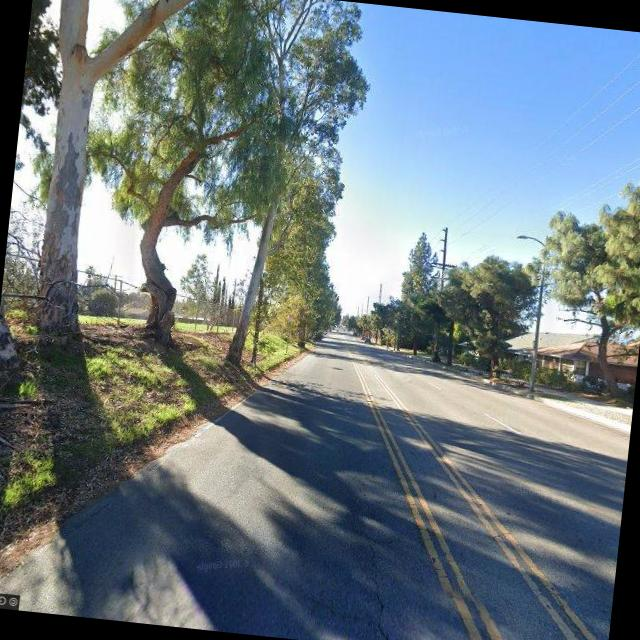crack: (349, 515, 415, 640)
